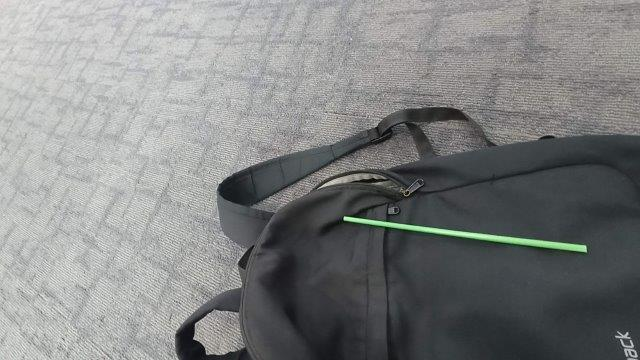sedotan: (344, 216, 587, 253)
